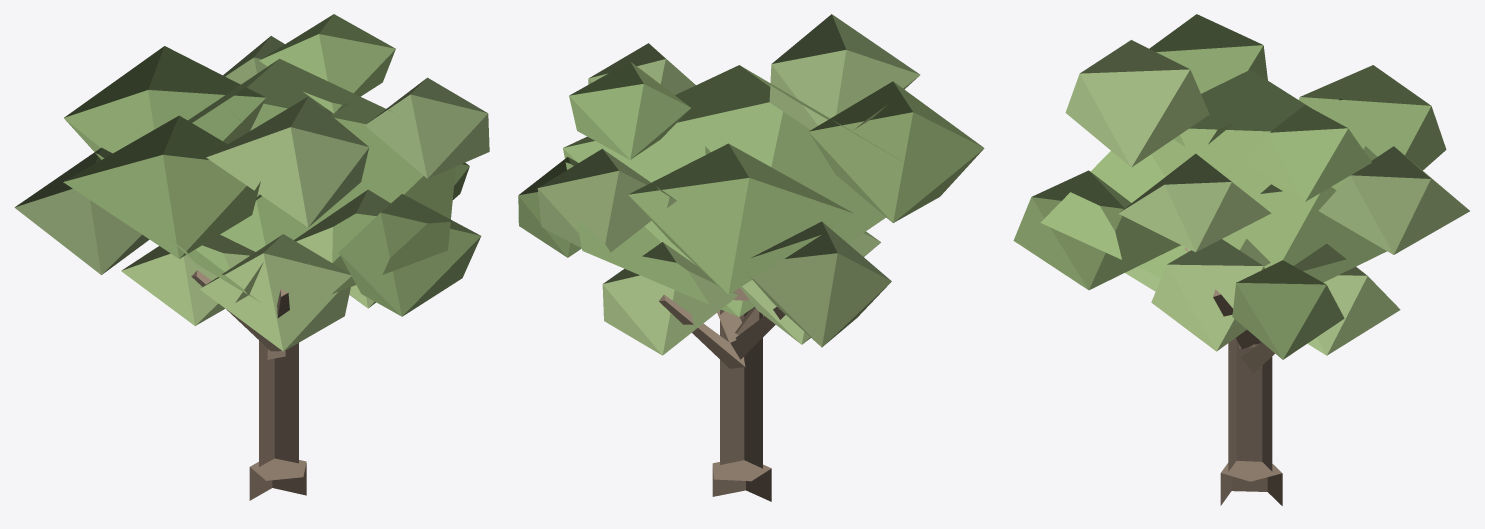
File: tree.temp.plane_maple__spring.glb
The picture shows the model from 3 angles, left to right: view 1: azimuth 30°, elevation 25°; view 2: azimuth 150°, elevation 25°; view 3: azimuth 270°, elevation 25°; orthographic projection. The views are drawn at different scales.
Visible parts, largest first — view 1: tree.temp.plane_maple__spring; view 2: tree.temp.plane_maple__spring; view 3: tree.temp.plane_maple__spring.
Boxes of the visible parts, x1,y1,x2,y2 form: tree.temp.plane_maple__spring: (14, 14, 489, 500); tree.temp.plane_maple__spring: (518, 14, 984, 501); tree.temp.plane_maple__spring: (1013, 14, 1469, 505).
Size of the model in its own units: 10.23 by 10.76 by 9.97.
